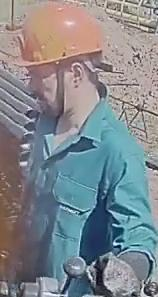gloves: (87, 244, 152, 297)
helmet: (20, 1, 104, 63)
vest: (26, 110, 158, 281)
